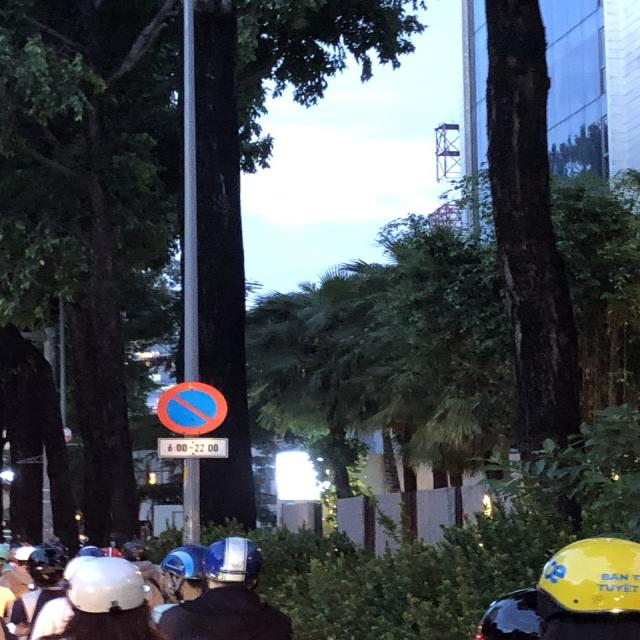Bien bao cam do xe: (147, 377, 238, 439)
